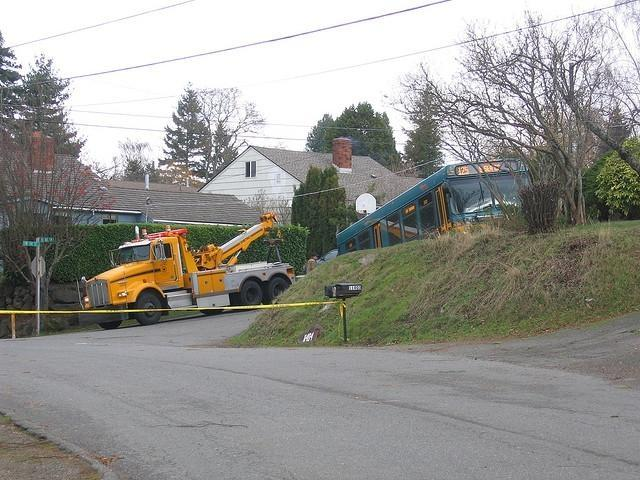bus: (336, 158, 530, 257)
car: (302, 249, 338, 273)
truck: (82, 214, 295, 331)
